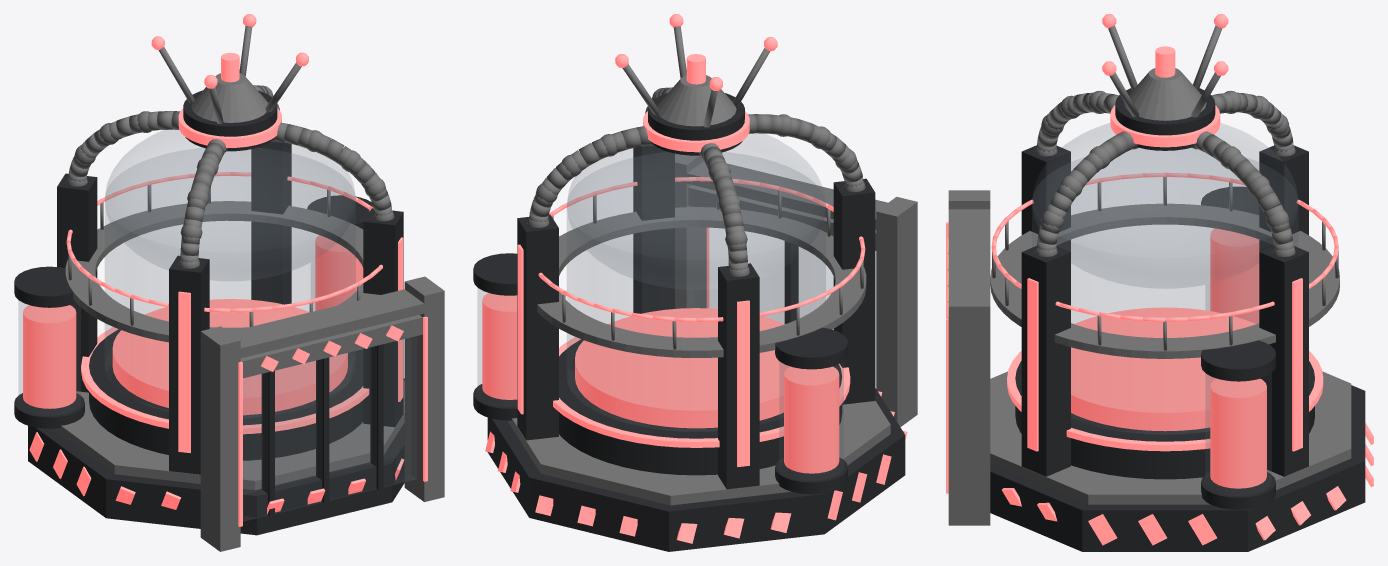
File: MonsterVat_EMBER.glb
The picture shows the model from 3 angles, left to right: view 1: azimuth 30°, elevation 25°; view 2: azimuth 150°, elevation 25°; view 3: azimuth 270°, elevation 25°; orthographic projection. The views are drawn at different scales.
Visible parts, largest first — view 1: MonsterVat_EMBER, MonsterVat_EMBER_Gate; view 2: MonsterVat_EMBER, MonsterVat_EMBER_Gate; view 3: MonsterVat_EMBER.
Part boxes in pixels (x1,y1,x2,y2): MonsterVat_EMBER: (14,14,444,551); MonsterVat_EMBER_Gate: (240,315,422,521); MonsterVat_EMBER: (473,14,917,551); MonsterVat_EMBER_Gate: (688,185,876,387); MonsterVat_EMBER: (946,14,1373,551).
Bounding box in the file's own units: 5.2 × 5.69 × 5.14.
